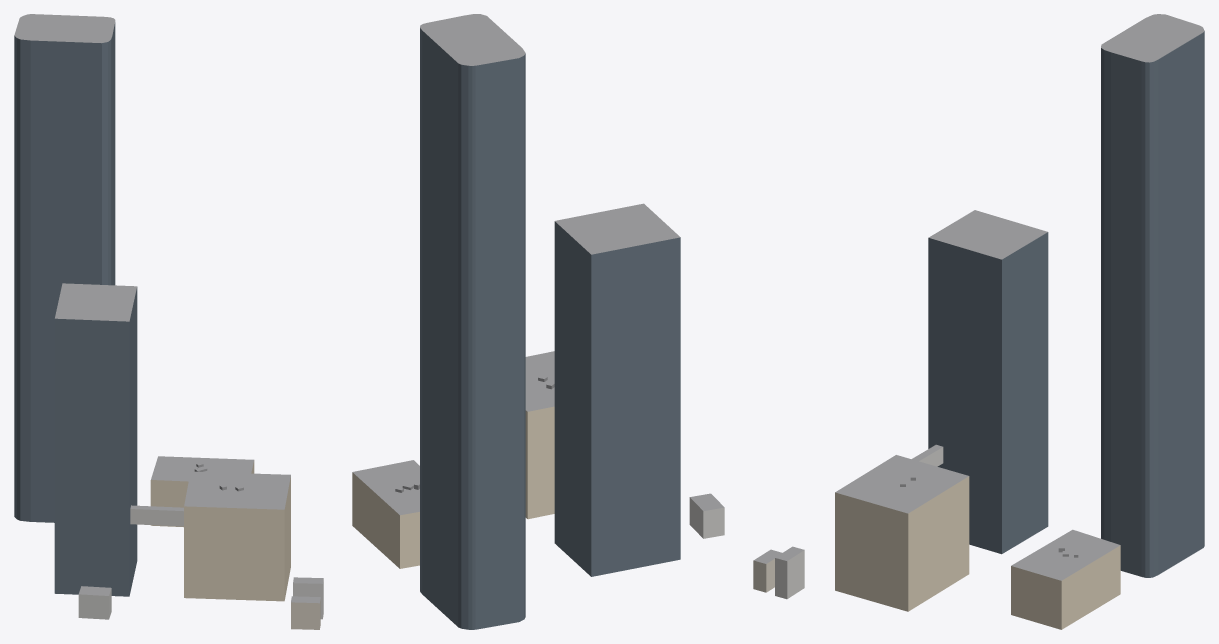
The model's file is building_-5_1.glb.
The picture shows the model from 3 angles, left to right: view 1: azimuth 30°, elevation 25°; view 2: azimuth 150°, elevation 25°; view 3: azimuth 270°, elevation 25°; orthographic projection. The views are drawn at different scales.
Visible parts, largest first — view 1: glass_dark, roof, sandstone, concrete_light, concrete_warm; view 2: glass_dark, roof, sandstone, concrete_light; view 3: glass_dark, sandstone, roof, concrete_light, concrete_warm.
Boxes of the visible parts, left/top/right/bottom form: glass_dark: left=14, top=22, right=137, bottom=596; roof: left=14, top=14, right=323, bottom=603; sandstone: left=150, top=460, right=290, bottom=601; concrete_light: left=78, top=509, right=323, bottom=619; concrete_warm: left=291, top=599, right=320, bottom=629; glass_dark: left=420, top=28, right=680, bottom=629; roof: left=352, top=14, right=724, bottom=515; sandstone: left=352, top=406, right=554, bottom=568; concrete_light: left=689, top=497, right=724, bottom=538; glass_dark: left=928, top=31, right=1204, bottom=577; sandstone: left=835, top=476, right=1120, bottom=629; roof: left=754, top=14, right=1204, bottom=580; concrete_light: left=775, top=447, right=943, bottom=599; concrete_warm: left=753, top=559, right=774, bottom=592.
Size of the model in its own units: 108 by 202 by 160.
